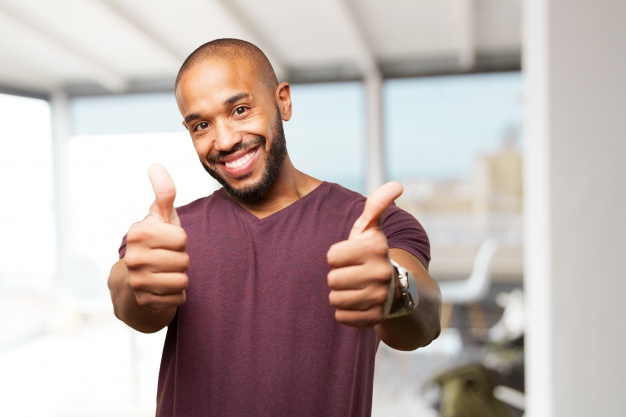thumbsup: (327, 181, 403, 328), (124, 162, 190, 309)
